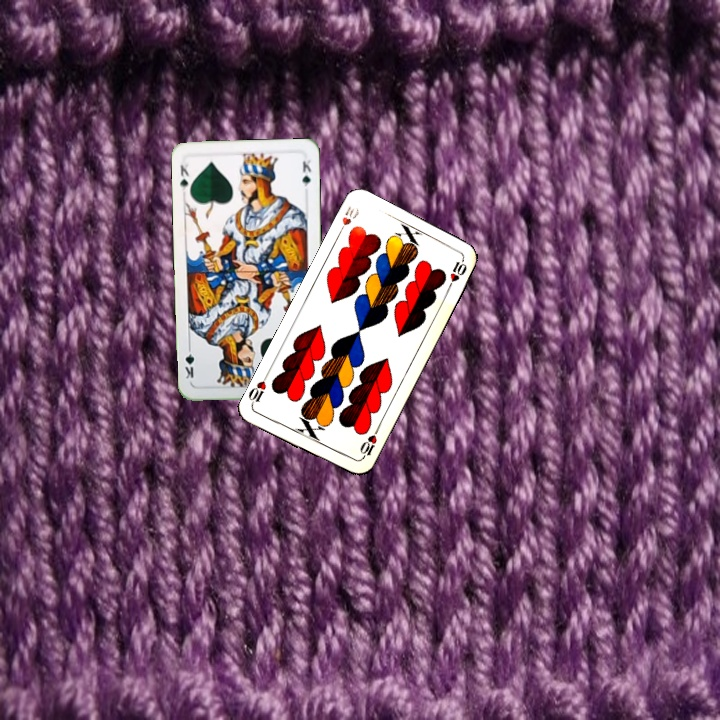GK: (176, 160, 192, 193)
H10: (333, 202, 362, 238), (356, 425, 381, 463)
